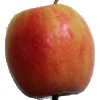apple: (5, 5, 95, 98)
